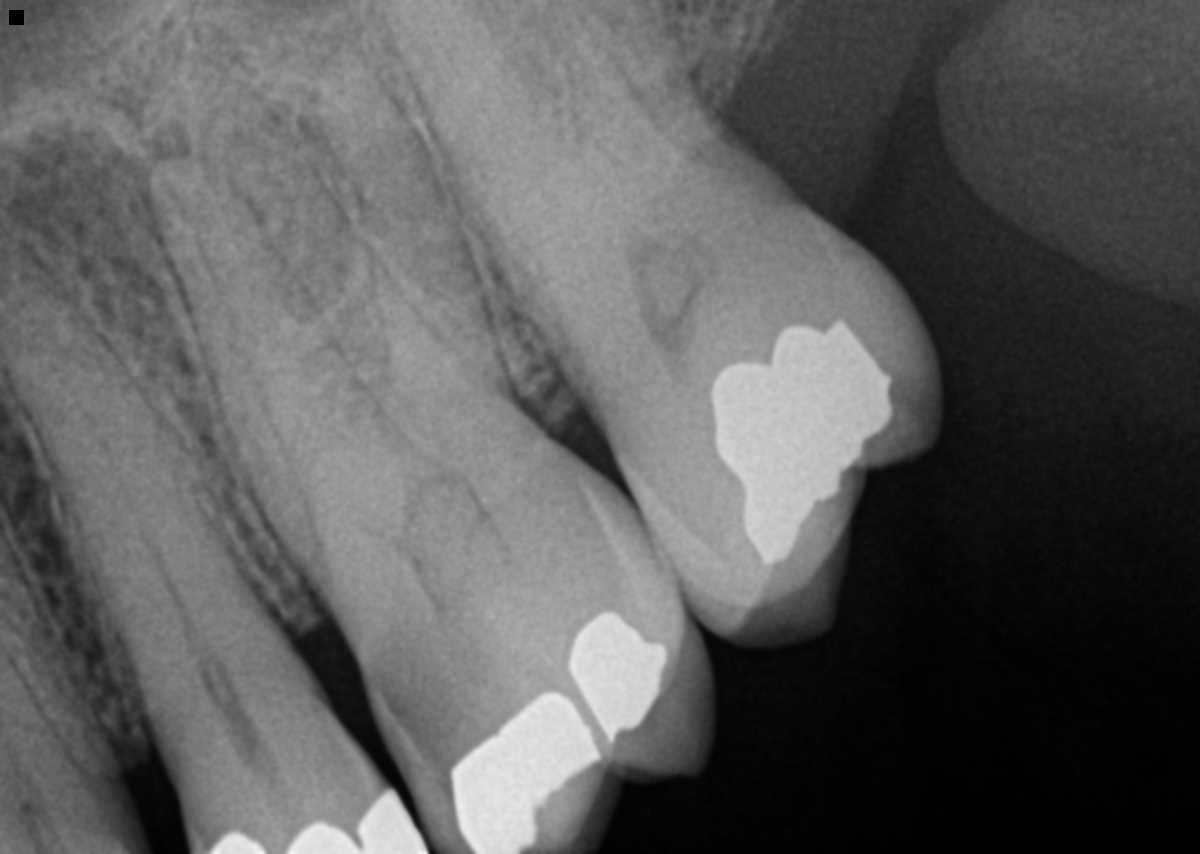Apical Lesion: (10, 120, 172, 342)
Distal Root: (316, 47, 510, 421), (542, 0, 722, 153)
Main Canal: (49, 358, 227, 694)
Main Root: (0, 235, 272, 730), (0, 510, 106, 772)
Mesial Root: (149, 154, 418, 592), (382, 1, 612, 291)
Palatal Root: (143, 63, 530, 597)
